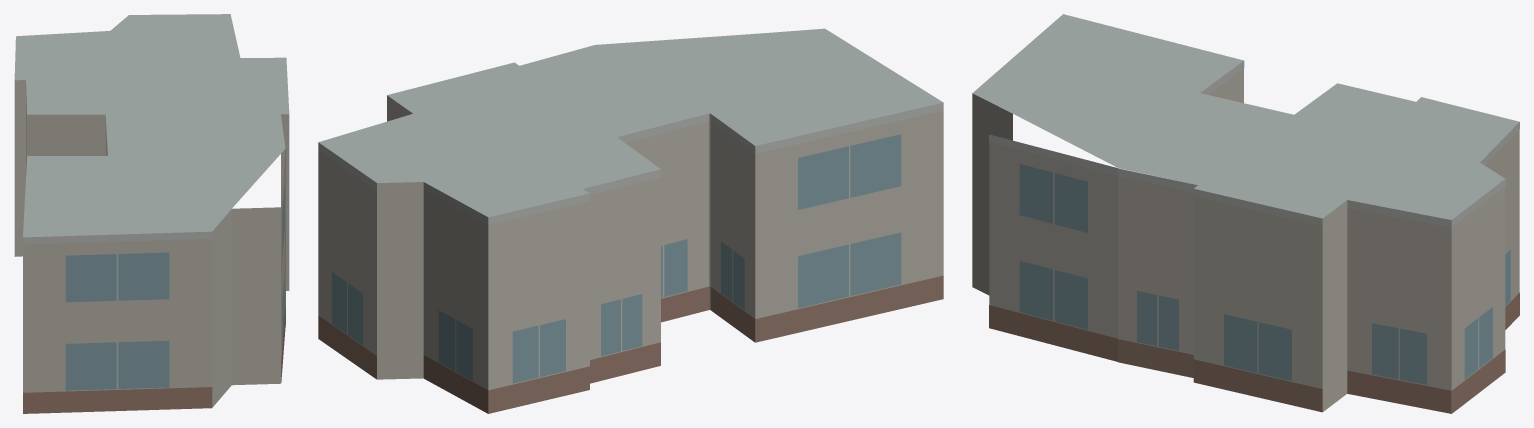
File: survey-upis-33002545.glb
3 renders of one model, left to right at view 1: azimuth 30°, elevation 25°; view 2: azimuth 150°, elevation 25°; view 3: azimuth 270°, elevation 25°, orthographic. The views are drawn at different scales.
Visible parts, largest first — view 1: survey-upis-33002545.tmp; view 2: survey-upis-33002545.tmp; view 3: survey-upis-33002545.tmp.
Boxes of the visible parts, bbox=[...] form: survey-upis-33002545.tmp: bbox=[14, 14, 289, 413]; survey-upis-33002545.tmp: bbox=[318, 28, 943, 413]; survey-upis-33002545.tmp: bbox=[972, 14, 1519, 413].
Bounding box in the file's own units: 13.92 × 6.1 × 15.63.
